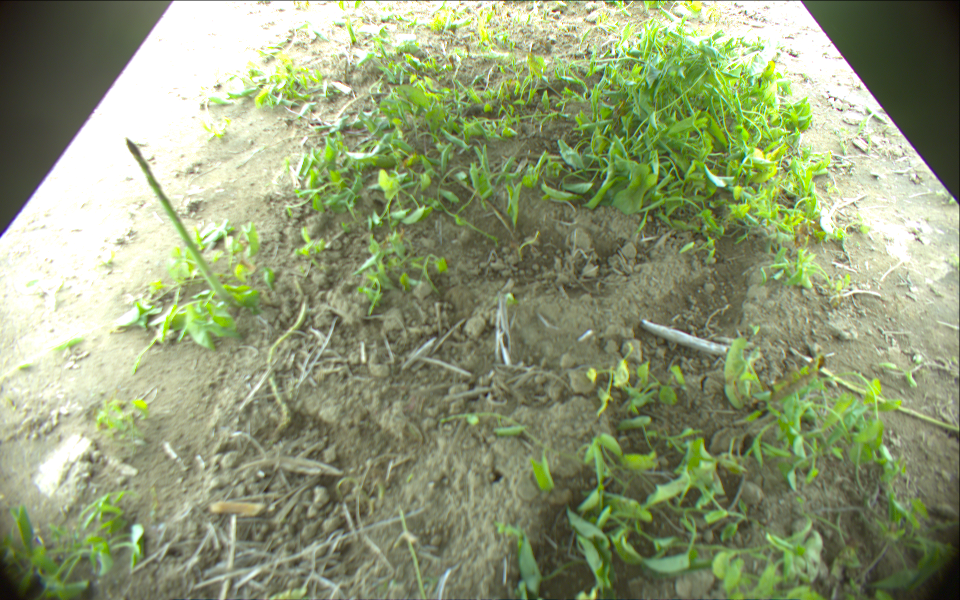aspa: (123, 135, 239, 315), (792, 345, 959, 441), (267, 297, 310, 429)
